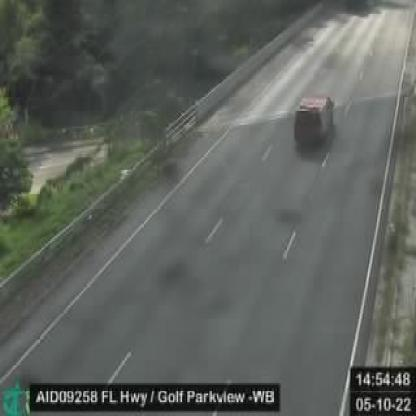Car: (294, 95, 333, 151)
